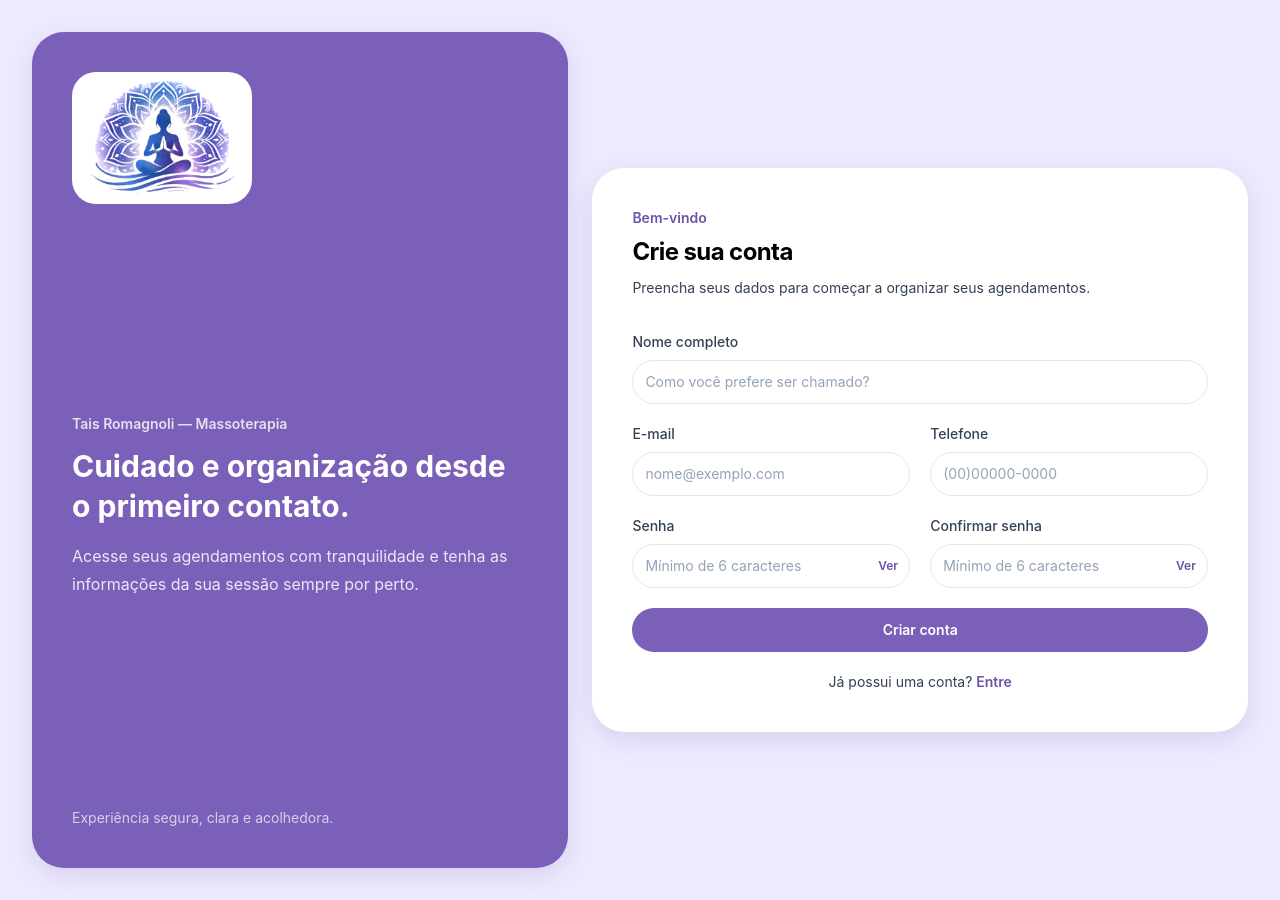
Test: RegisterPage › valida o tamanho mínimo e caracteres do nome
# Nome curto
Type "Ab" into the field labelled "Nome completo" at {"x": 920, "y": 382}, box x1=632 y1=360 x2=1208 y2=404
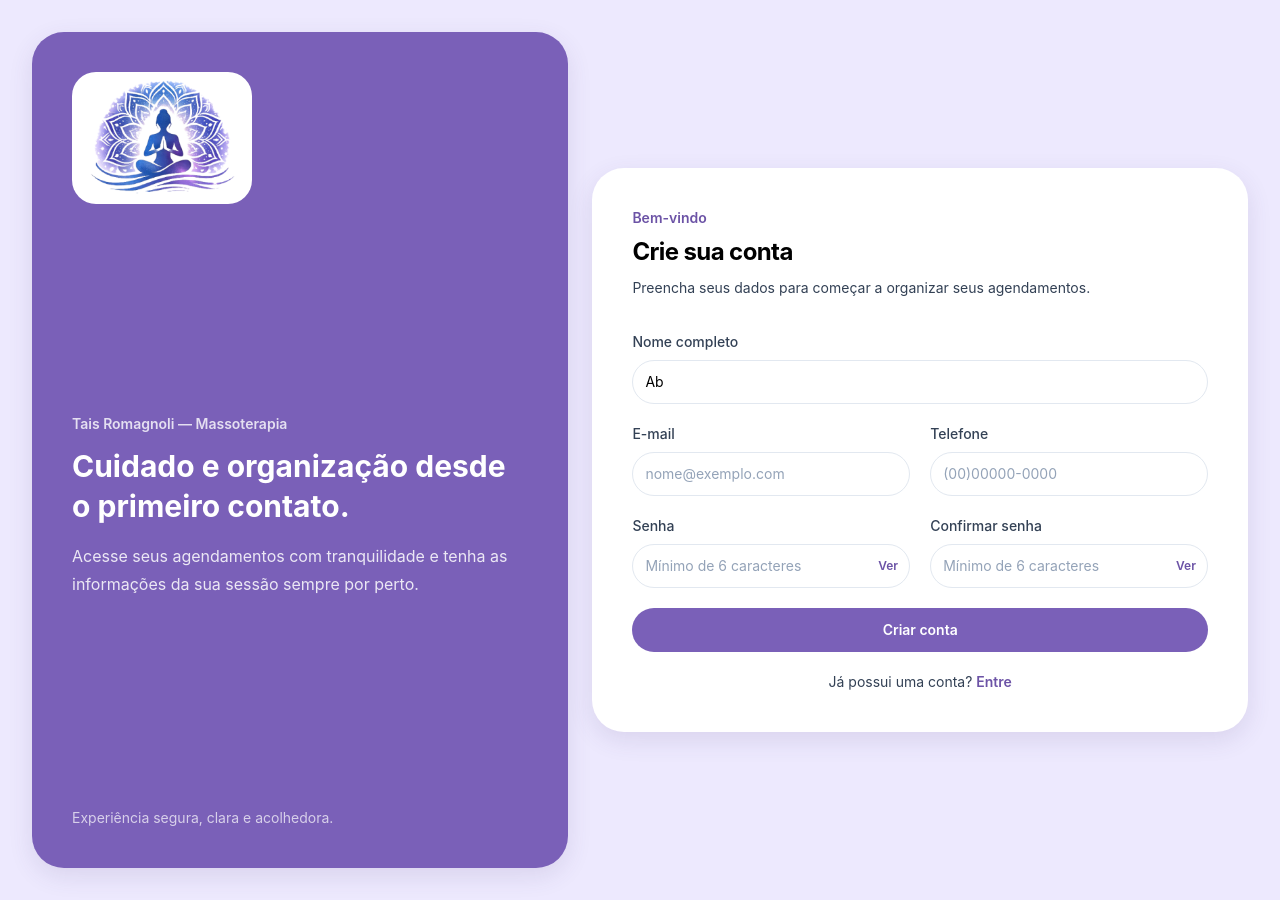
Click the button "Criar conta" at {"x": 920, "y": 630}, box x1=632 y1=608 x2=1208 y2=652
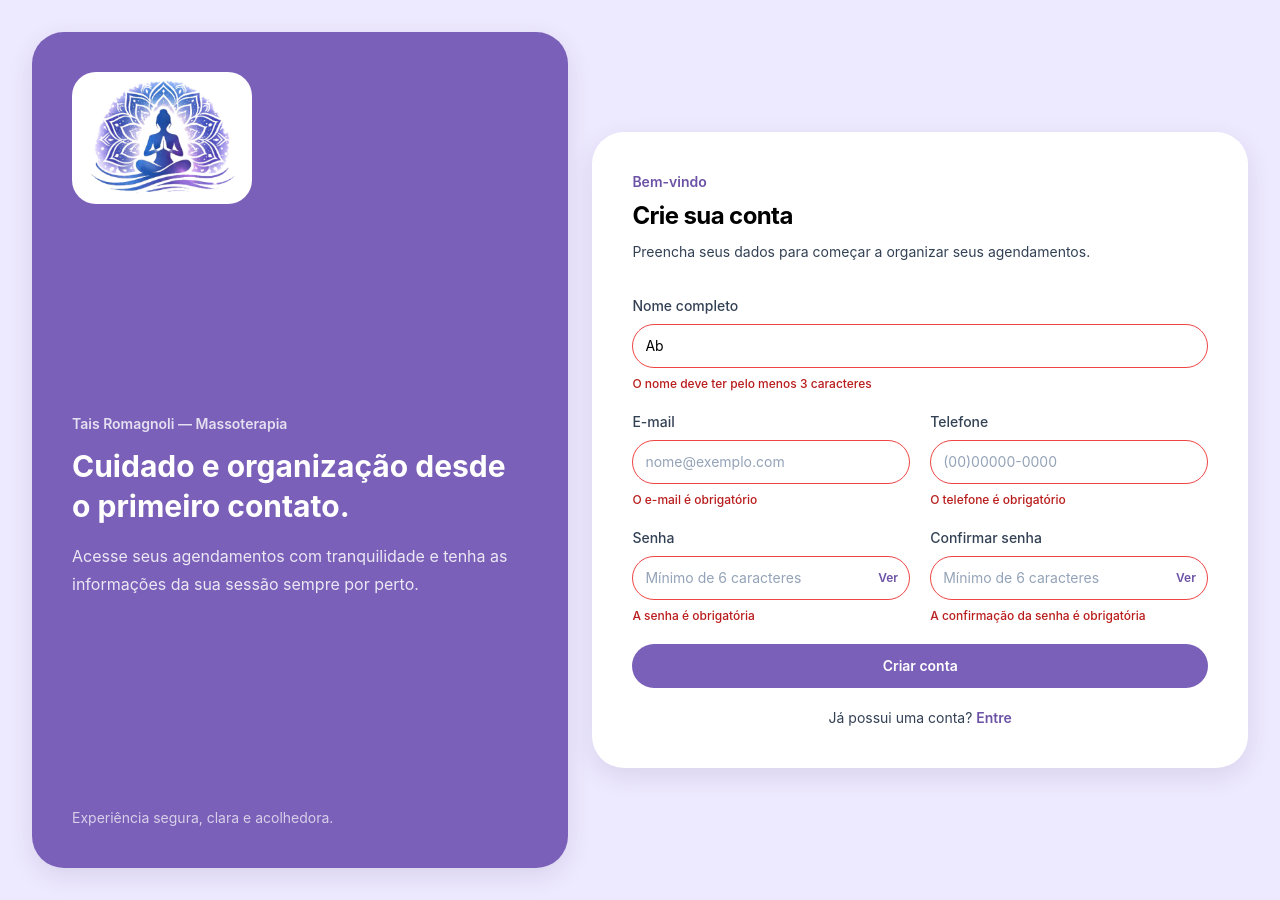
Result: the text "O nome deve ter pelo menos 3 caracteres" is shown at x1=632 y1=376 x2=872 y2=391
# Nome com números/caracteres especiais
Replace the text in the field labelled "Nome completo" with "João123" at {"x": 920, "y": 346}, box x1=632 y1=324 x2=1208 y2=368
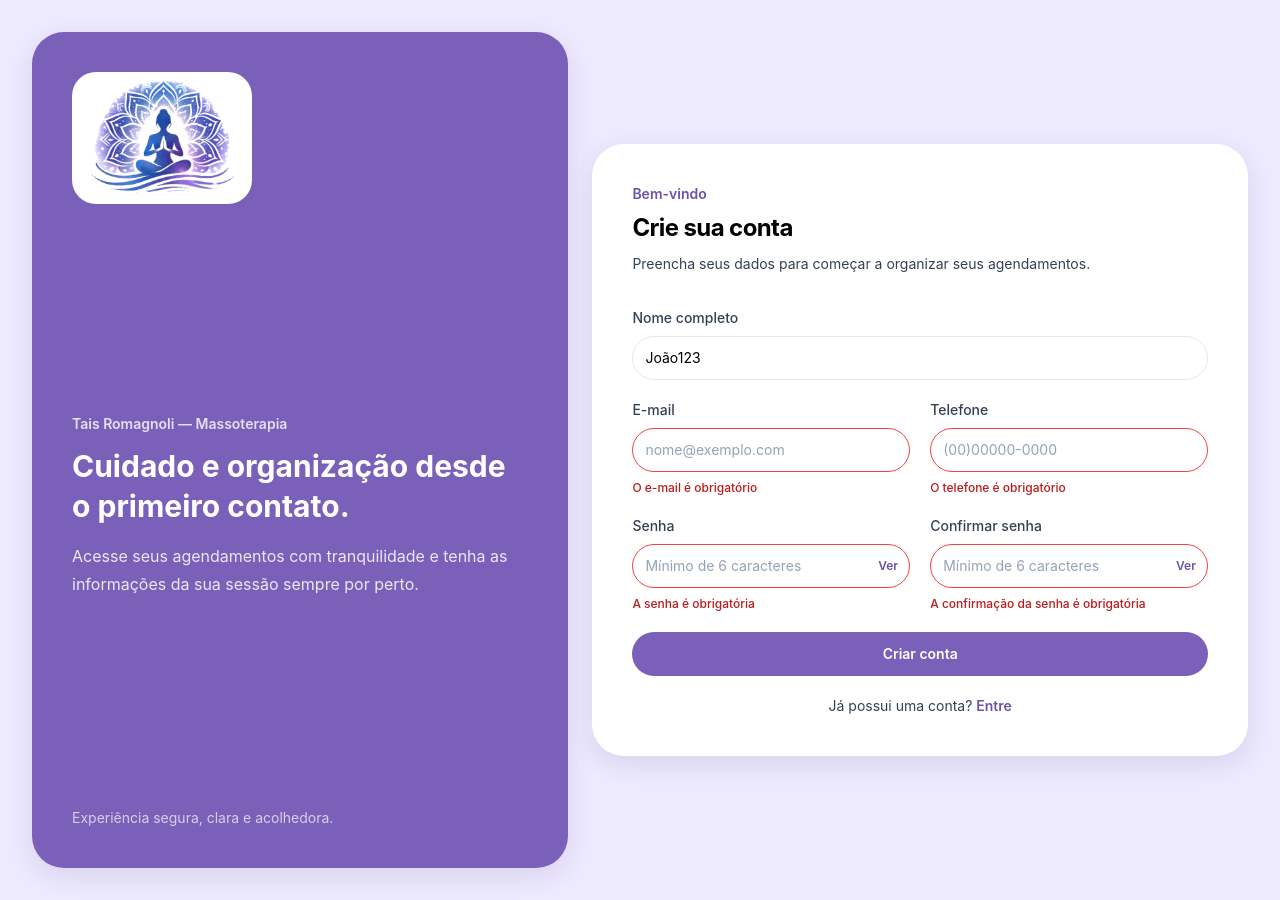
Click the button "Criar conta" at {"x": 920, "y": 654}, box x1=632 y1=632 x2=1208 y2=676
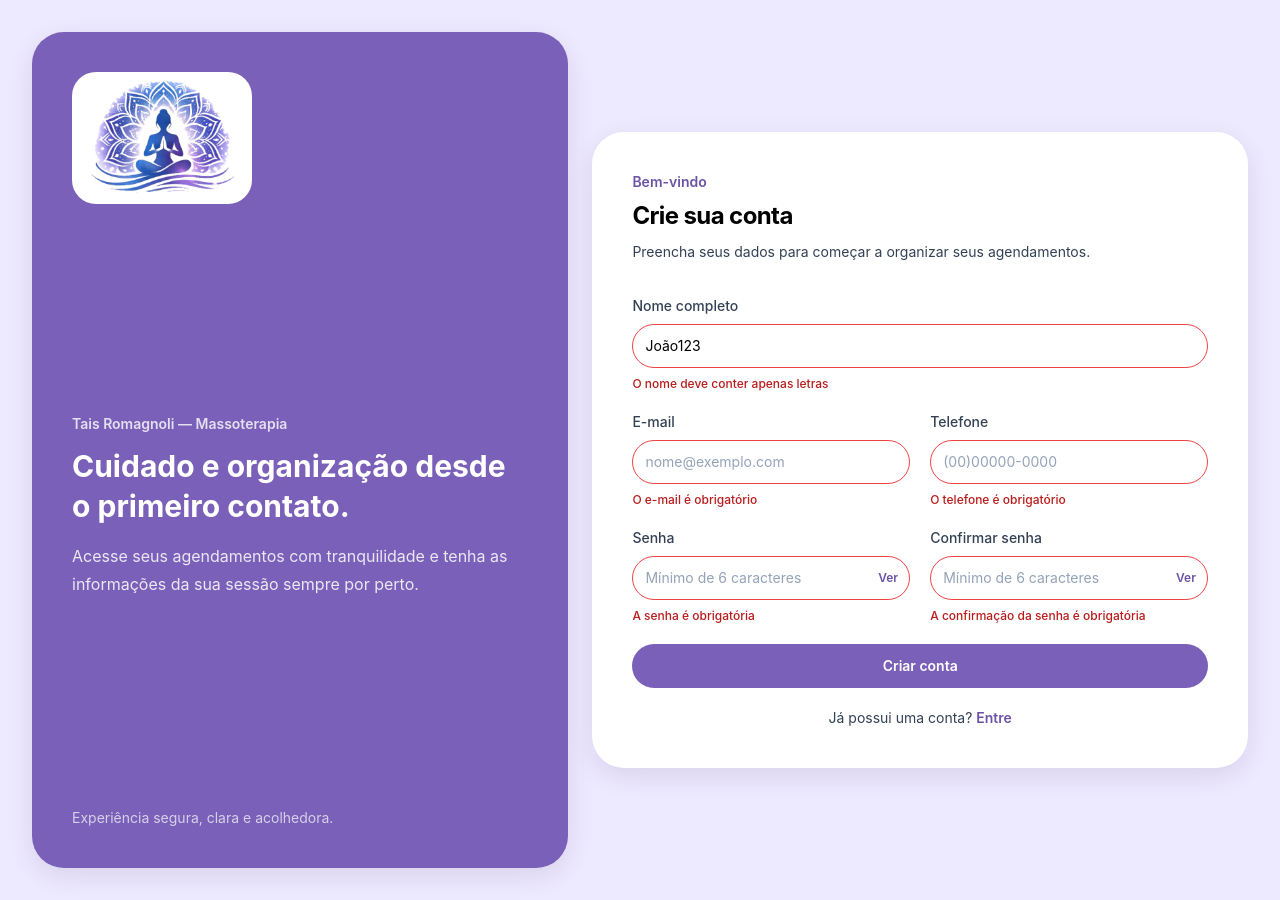
Result: the text "O nome deve conter apenas letras" is shown at x1=632 y1=376 x2=829 y2=391
